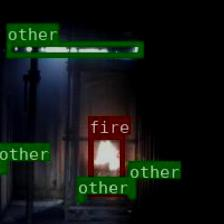fire: (88, 134, 124, 195)
